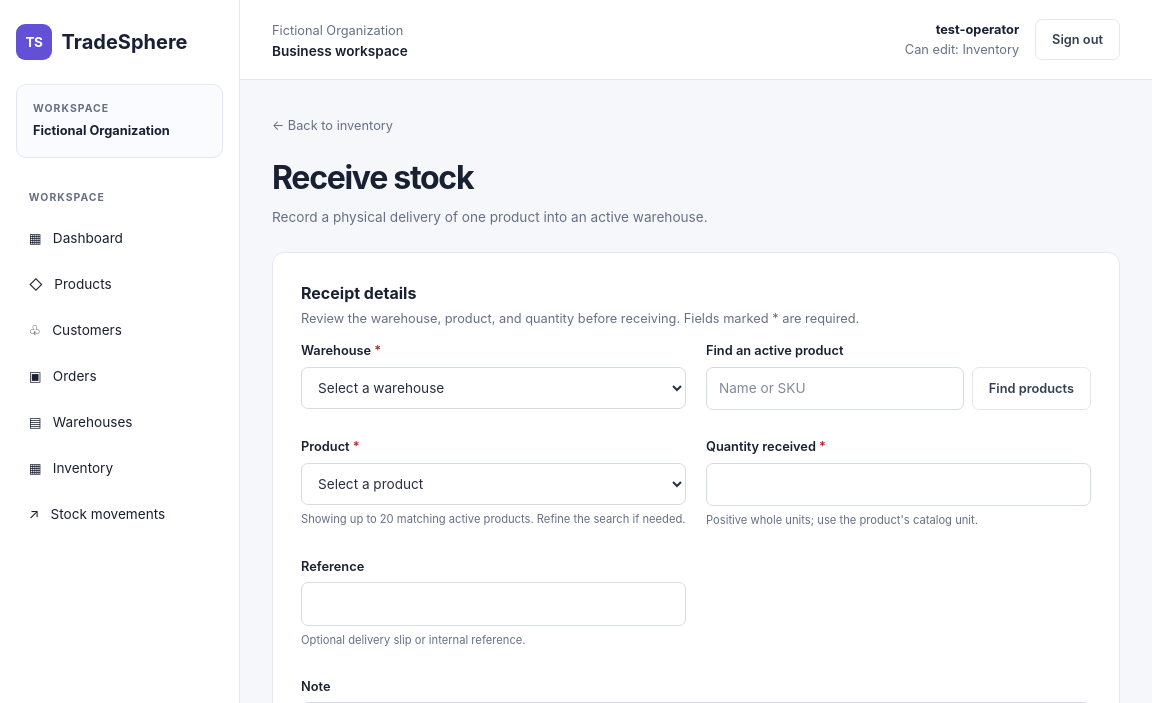
it: warehouse and inventory interactions › receives stock using selected warehouse/product and whole-unit quantity
This screenshot has width=1152, height=703.
Select "Colombo test warehouse (COL-01)" in the dropdown labelled "Warehouse *". click: (494, 388)
box: [301,367,686,409]
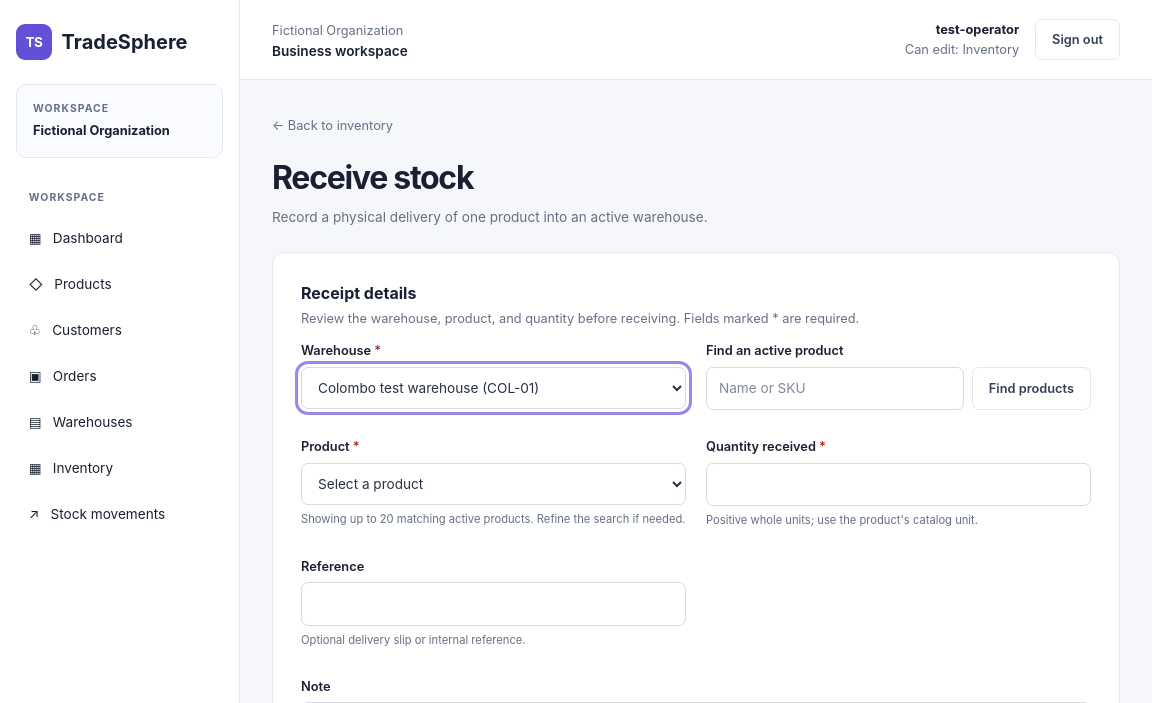
Select "Packing tape (TAPE-01)" in the dropdown labelled "Product *". click: (494, 484)
box: [301,462,686,504]
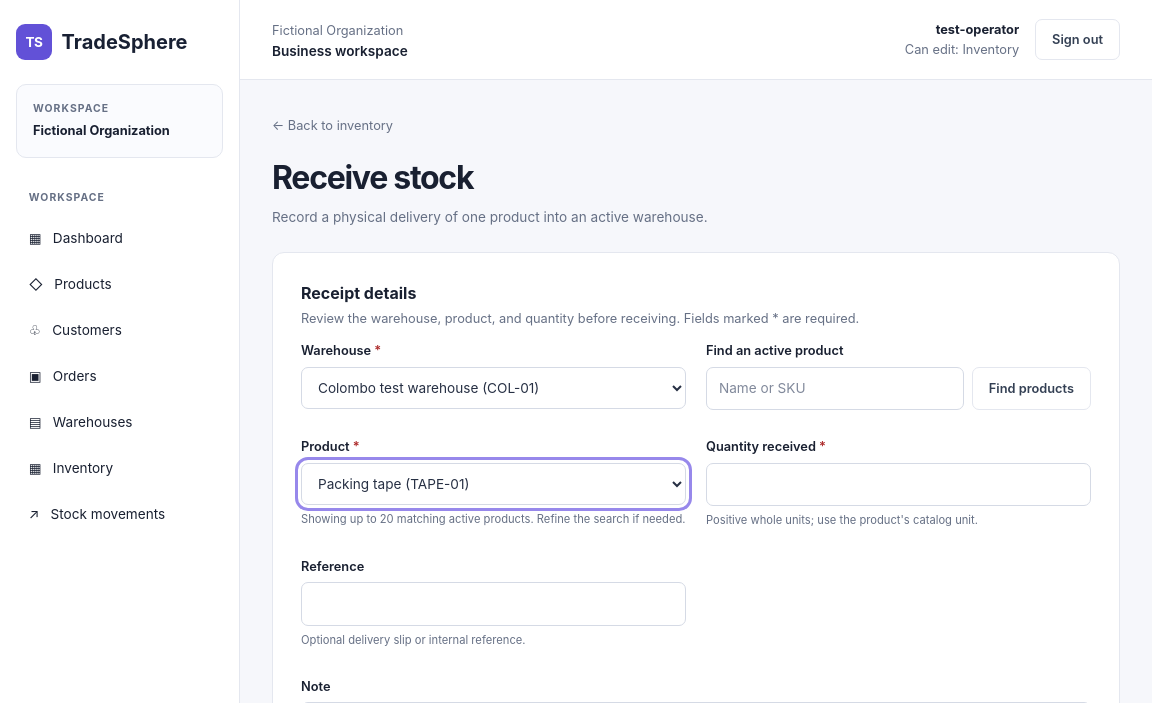
Type "25" into the number field labelled "Quantity received *". click: (898, 484)
box: [706,462,1091,506]
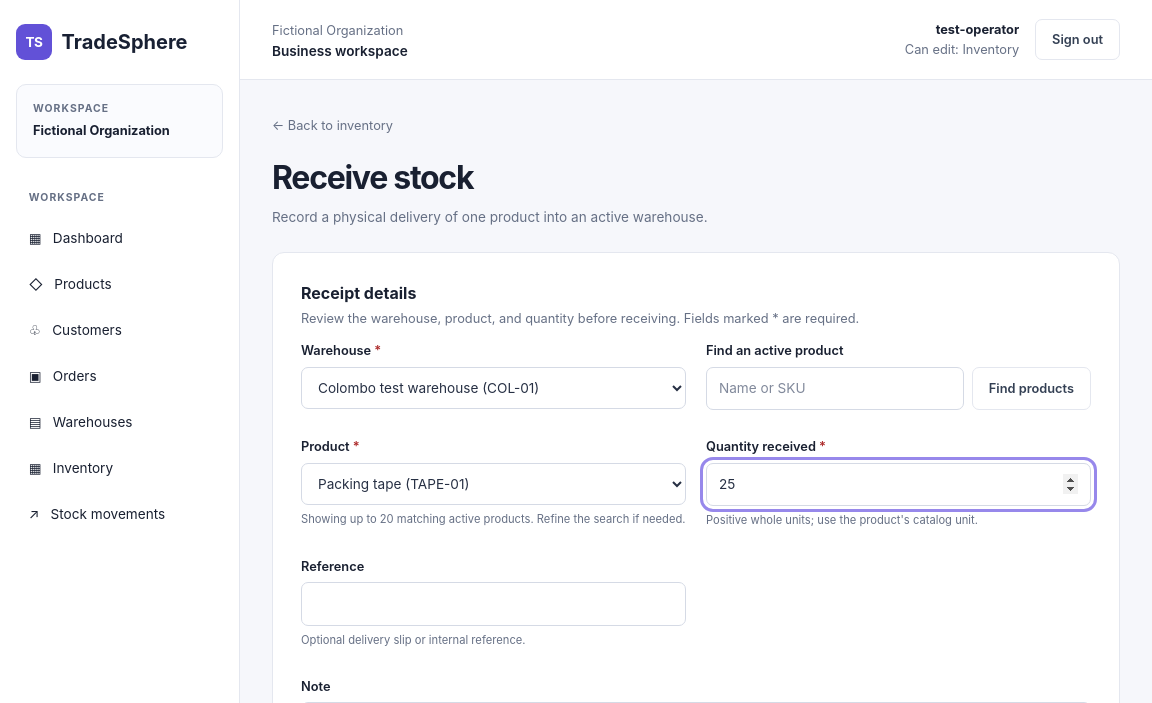
Type "DEL-15" into the field labelled "Reference". click: (494, 604)
box: [301,582,686,626]
(page scrolled)
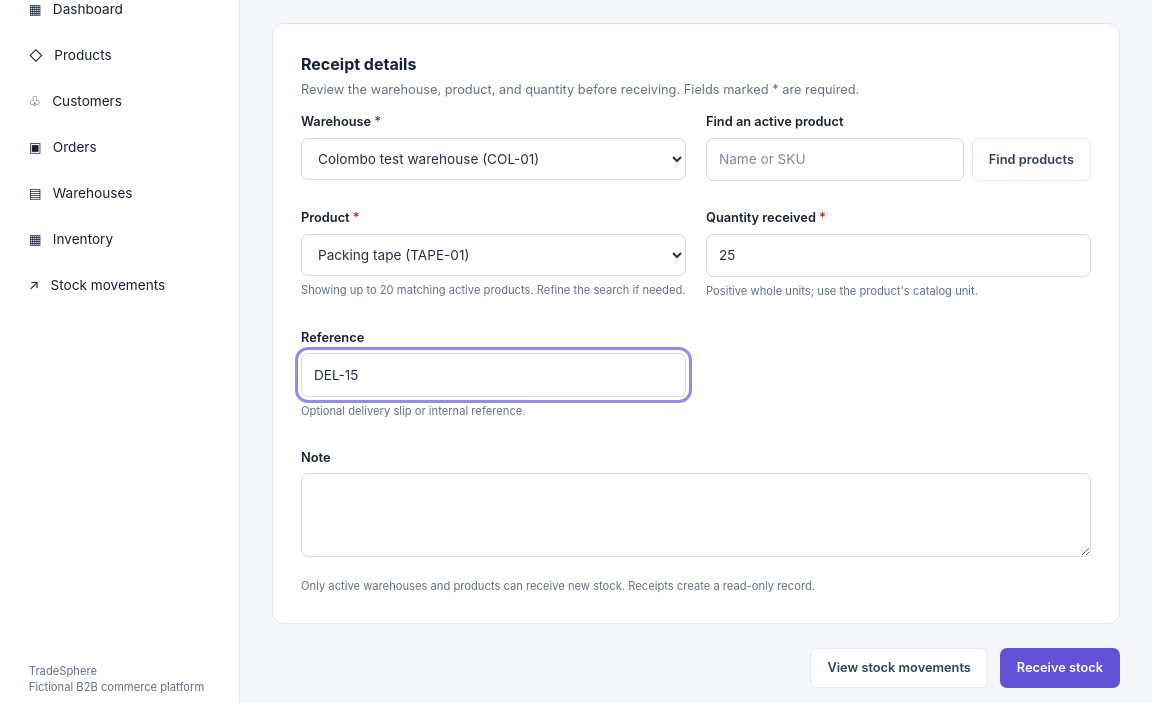
Click the button "Receive stock". click: (1060, 668)
box: [1000,648,1120,688]
(page scrolled)
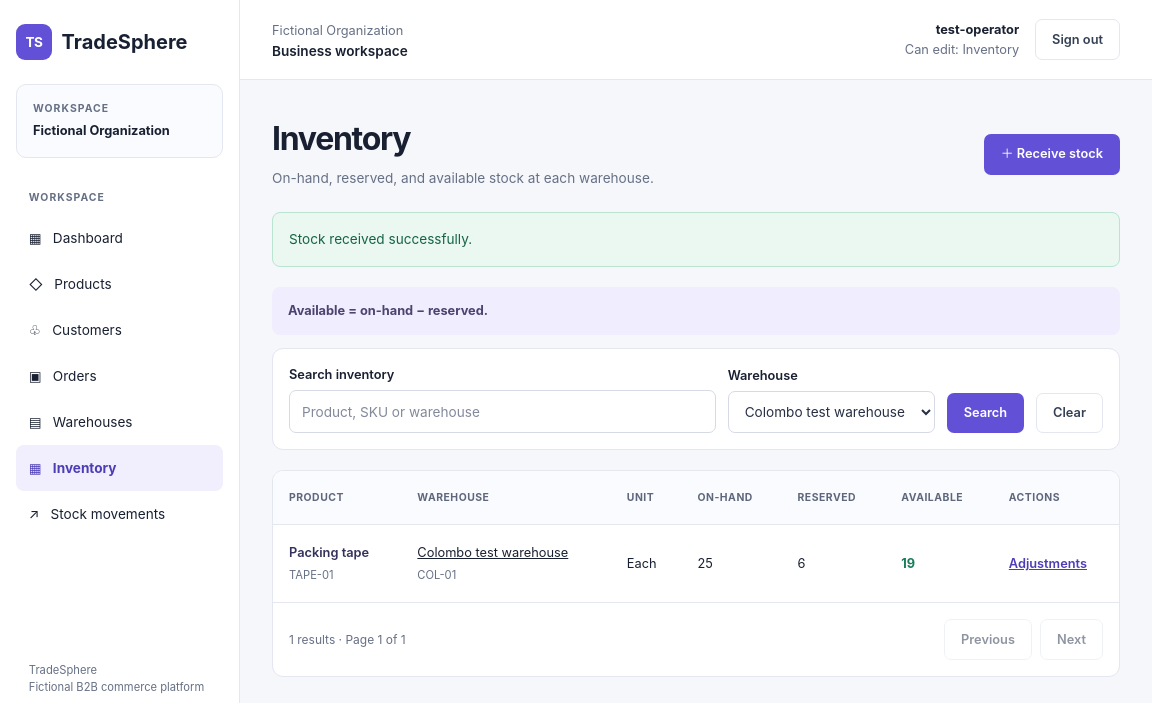
Expected: the text "Stock received successfully." is shown, [272,212,1120,267]
